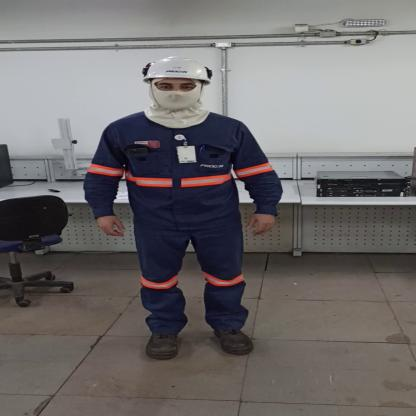Balaclava: (140, 81, 216, 128)
Capacete: (139, 56, 227, 82)
